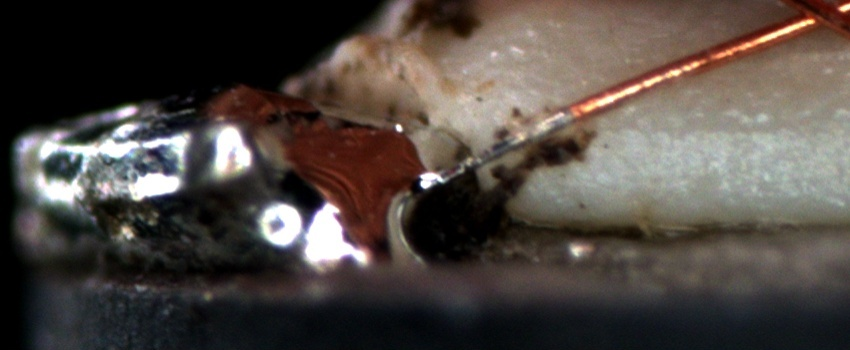CL: (762, 0, 846, 41)
DL: (626, 96, 850, 161)
TS: (410, 105, 572, 195)
TTCW: (418, 78, 635, 187)
